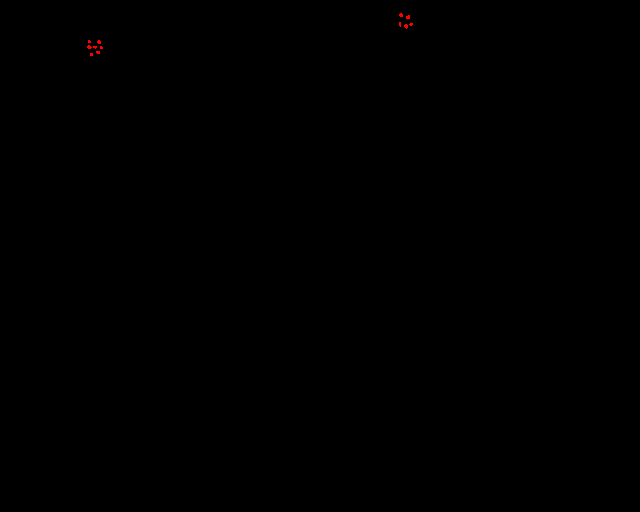Target: (404, 24, 408, 29), (87, 45, 92, 49), (399, 13, 403, 17), (406, 15, 410, 19), (97, 40, 101, 44), (409, 23, 413, 26), (93, 46, 97, 49), (96, 51, 100, 54), (399, 22, 401, 27), (88, 40, 91, 43), (100, 46, 103, 49), (90, 53, 93, 56)
